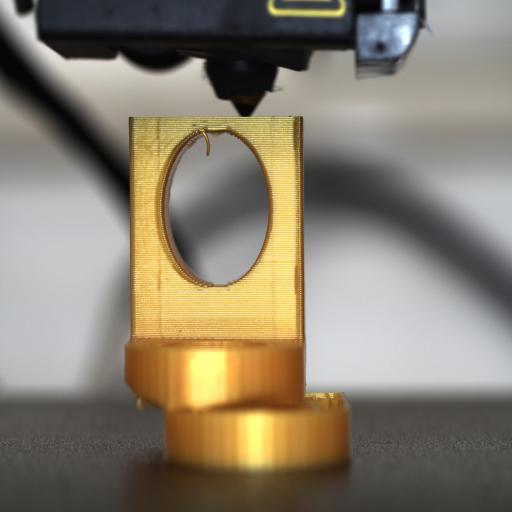layer_shift: (125, 373, 356, 421)
